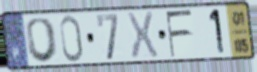0: (58, 14, 85, 65)
1: (206, 7, 227, 57)
7: (94, 12, 121, 63)
F: (164, 8, 194, 60)
O: (24, 16, 61, 64)
X: (125, 11, 160, 62)
